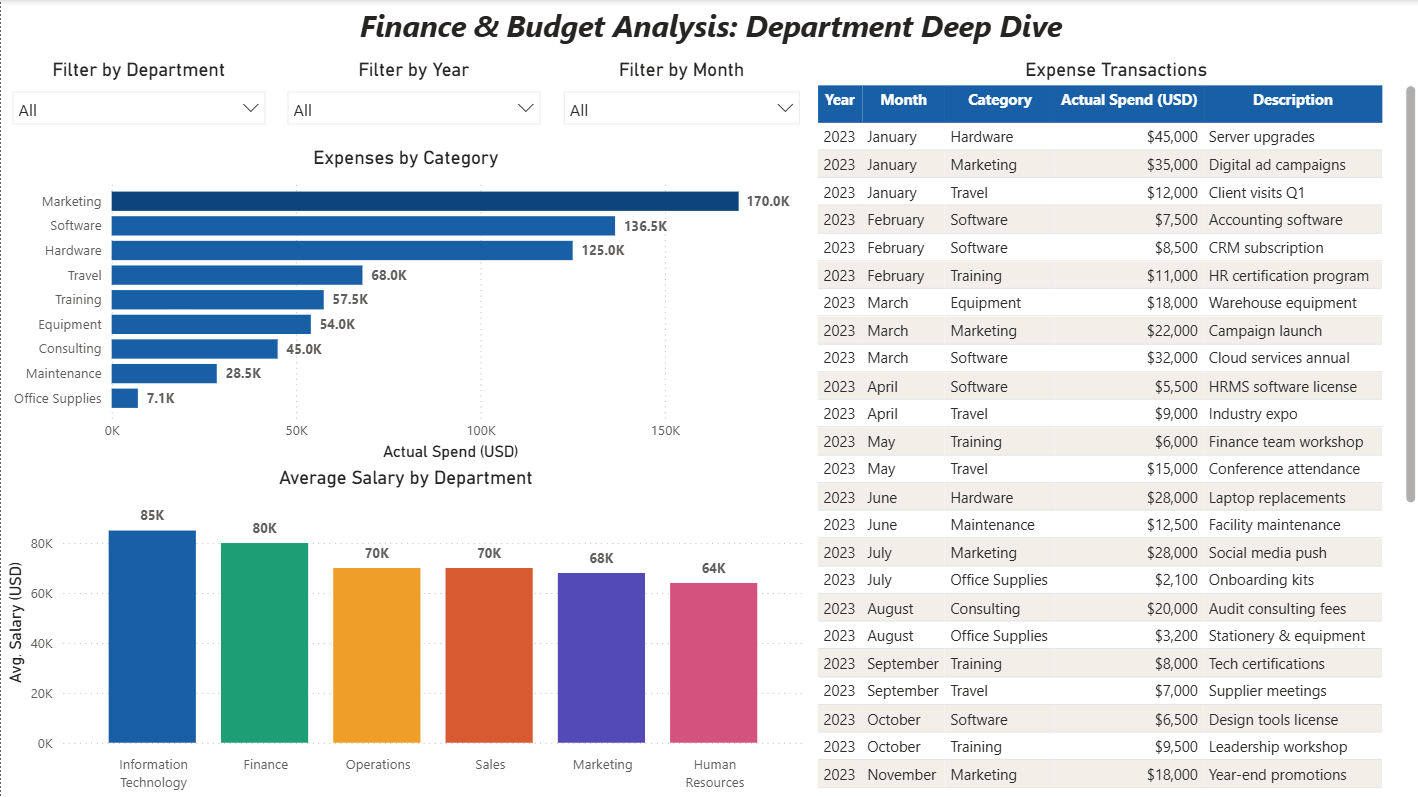

This screenshot's page, from the dashboard's own definition file:
{"tool":"powerbi","page":{"name":"Department Deep Dive","canvas":[1280,720],"ordinal":1},"visuals":[{"type":"slicer","title":"Filter by Department","fields":{"Values":["public departments.department_name"]},"box":[0,53.5,248.4,78.2],"z":0},{"type":"clusteredBarChart","title":"Expenses by Category","fields":{"Category":["public expenses.category"],"Y":["Sum(public expenses.amount)"]},"box":[0,131.7,730,288.2],"z":1000},{"type":"tableEx","title":"Expense Transactions","fields":{"Values":["public expenses.expense_date.Variation.Date Hierarchy.Year","public expenses.expense_date.Variation.Date Hierarchy.Month","public expenses.category","Sum(public expenses.amount)","public expenses.description"]},"box":[730,53.5,550.3,666.9],"z":2000},{"type":"clusteredColumnChart","title":"Average Salary by Department","fields":{"Category":["public departments.department_name"],"Y":["Avg(public employees.salary)"]},"box":[0,419.9,730,300.5],"z":3000},{"type":"textbox","box":[0,0,1280.3,53.5],"z":4000},{"type":"slicer","title":"Filter by Year","fields":{"Values":["public expenses.expense_date.Variation.Date Hierarchy.Year"]},"box":[248.4,53.5,248.4,78.2],"z":4001},{"type":"slicer","title":"Filter by Month","fields":{"Values":["public expenses.expense_date.Variation.Date Hierarchy.Month"]},"box":[496.7,53.5,233.3,78.2],"z":4002}]}

Visuals, with their boxes in screenshot pixels (x1, y1, x2, y2), scaled from the page's 1280x720 canvas onto the 1418x797 screenshot:
"Filter by Department" slicer: box=[0, 59, 275, 146]
"Expenses by Category" clusteredBarChart: box=[0, 146, 809, 465]
"Expense Transactions" tableEx: box=[809, 59, 1417, 796]
"Average Salary by Department" clusteredColumnChart: box=[0, 465, 809, 796]
textbox: box=[0, 0, 1417, 59]
"Filter by Year" slicer: box=[275, 59, 550, 146]
"Filter by Month" slicer: box=[550, 59, 809, 146]
